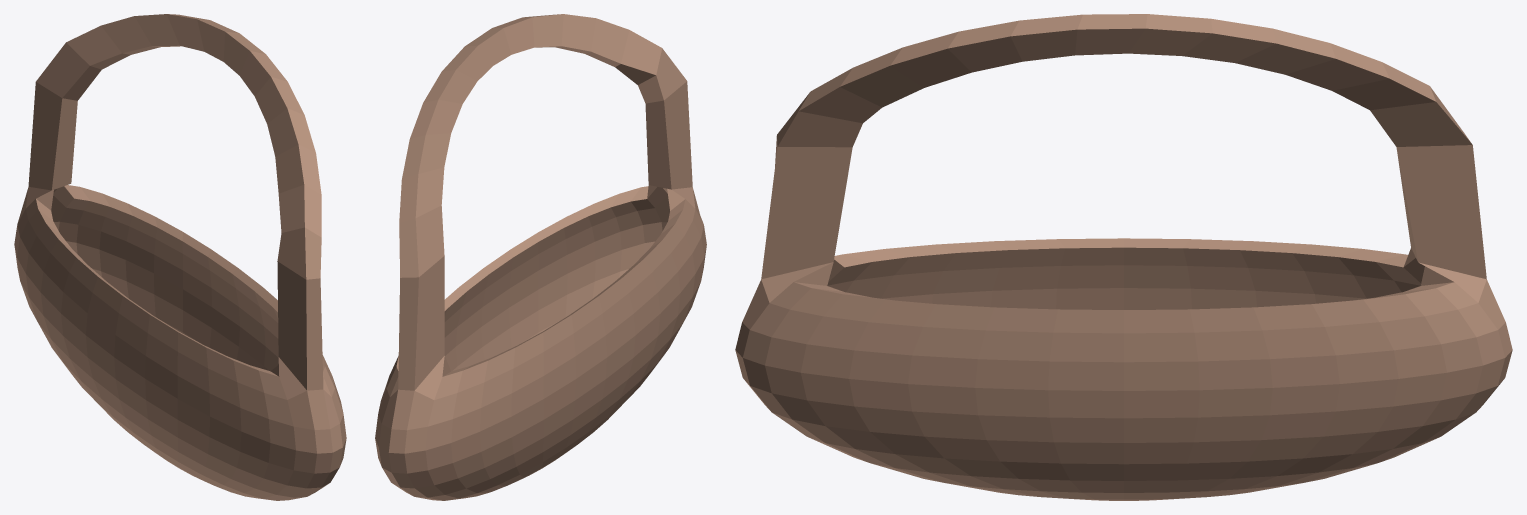
The model's file is Basket.fbx.
The picture shows the model from 3 angles, left to right: view 1: azimuth 30°, elevation 25°; view 2: azimuth 150°, elevation 25°; view 3: azimuth 270°, elevation 25°; orthographic projection. The views are drawn at different scales.
Visible parts, largest first — view 1: Sphere; view 2: Sphere; view 3: Sphere.
Part boxes in pixels (x1=…): Sphere: x1=14, y1=14, x2=346, y2=500; Sphere: x1=375, y1=14, x2=706, y2=500; Sphere: x1=735, y1=14, x2=1512, y2=500.
Bounding box in the file's own units: 137 × 395 × 541.
